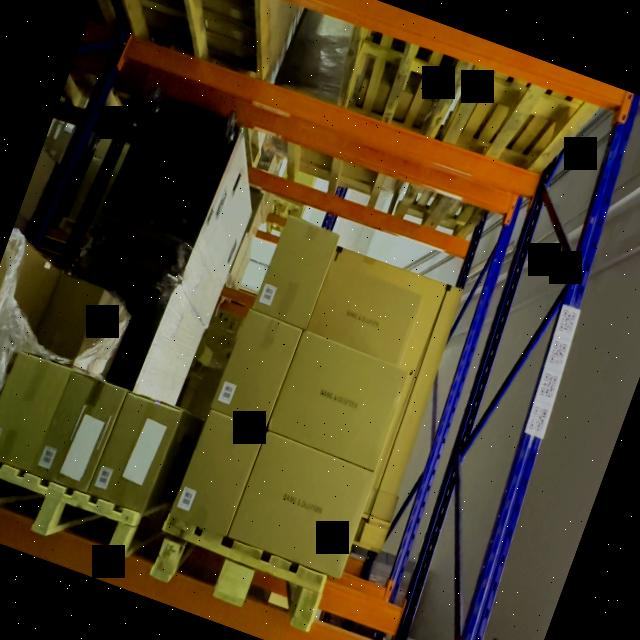box: (94, 98, 235, 274), (228, 439, 376, 576), (48, 250, 174, 390), (273, 340, 403, 468), (311, 249, 435, 369), (206, 316, 302, 436), (250, 218, 342, 340), (38, 372, 124, 492), (95, 399, 181, 509), (178, 424, 260, 535), (0, 348, 68, 469), (26, 272, 100, 369)
